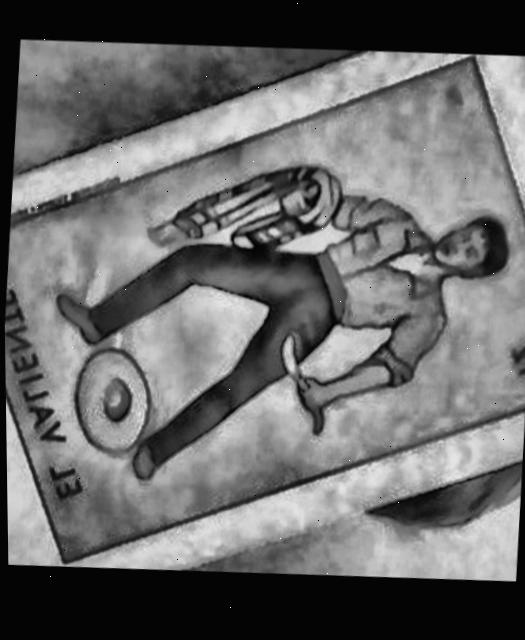El Valiente: (4, 59, 525, 567)
